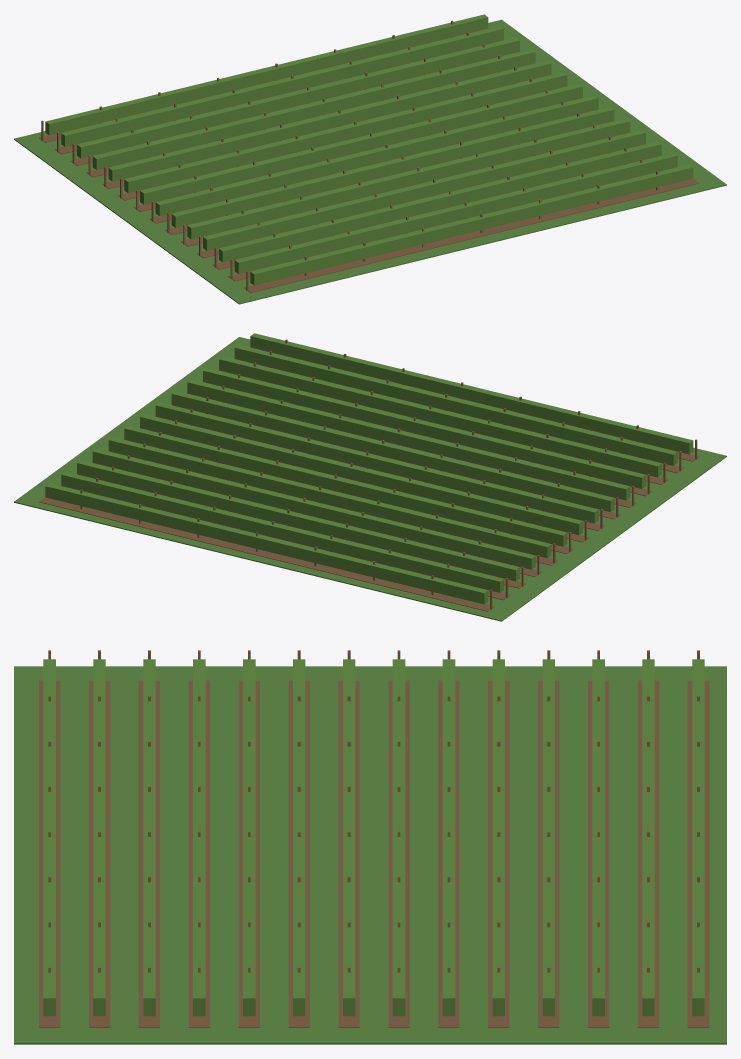
Rendered from Kir_alan_bag_1_Hafif.fbx.
The picture shows the model from 3 angles, top to bottom: view 1: azimuth 30°, elevation 25°; view 2: azimuth 150°, elevation 25°; view 3: azimuth 270°, elevation 25°; orthographic projection. The views are drawn at different scales.
Visible parts, largest first — view 1: Kir_alan_bag_1_Hafif; view 2: Kir_alan_bag_1_Hafif; view 3: Kir_alan_bag_1_Hafif.
Boxes of the visible parts, x1=… form: Kir_alan_bag_1_Hafif: x1=14, y1=14, x2=726, y2=304; Kir_alan_bag_1_Hafif: x1=14, y1=333, x2=726, y2=621; Kir_alan_bag_1_Hafif: x1=14, y1=650, x2=726, y2=1044.
Size of the model in its own units: 50 by 2 by 40.
